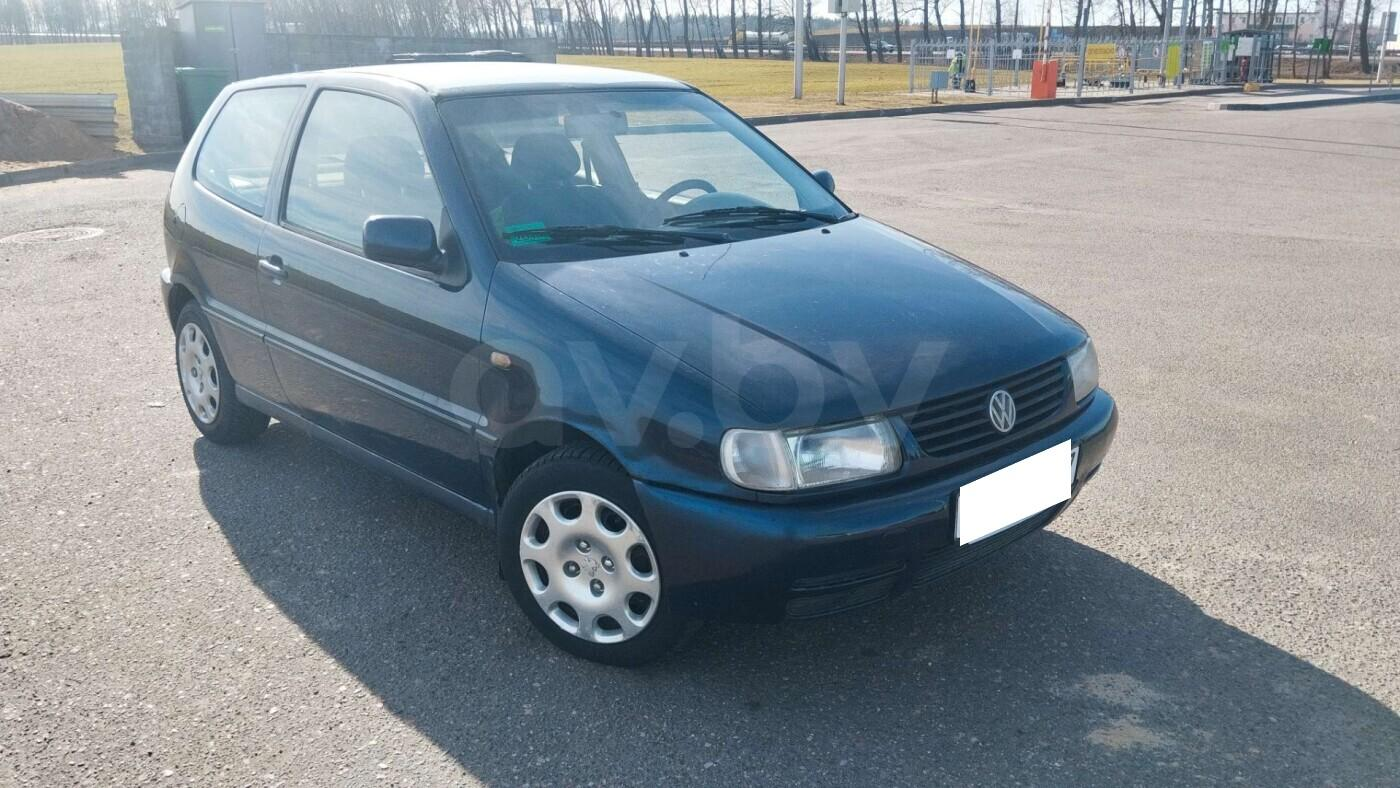Polo_1994-2002: (163, 53, 1123, 669)
